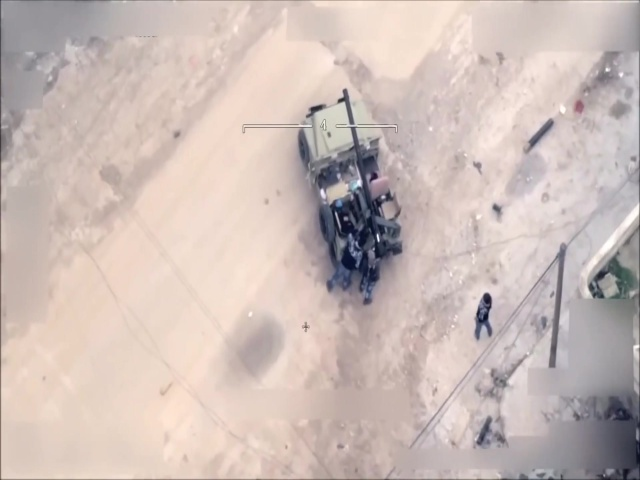person: (324, 235, 366, 294), (360, 246, 382, 305), (474, 290, 495, 344)
vehicle: (296, 98, 404, 261)
